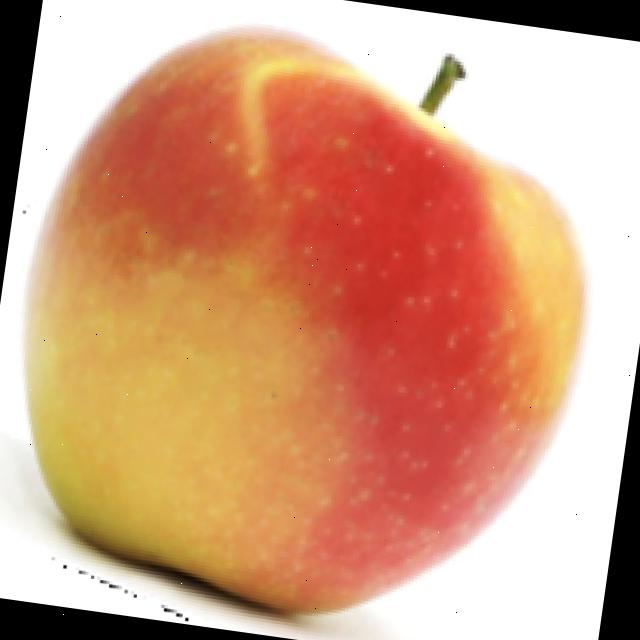apple: (0, 19, 596, 640)
